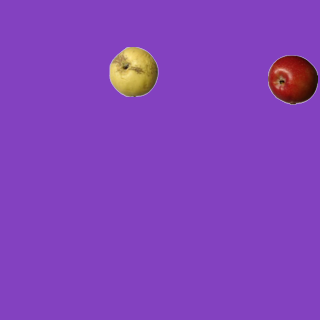Apple Braeburn: (267, 54, 317, 104)
Apple Golden 1: (108, 46, 158, 96)
